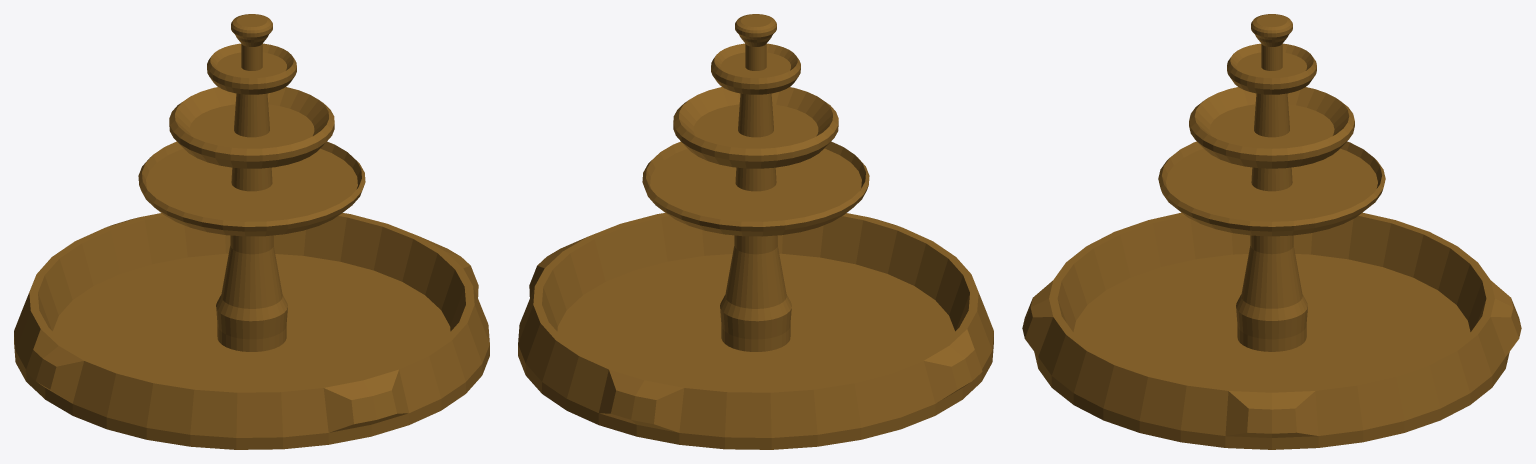
File: Fountain.fbx
3 renders of one model, left to right at view 1: azimuth 30°, elevation 25°; view 2: azimuth 150°, elevation 25°; view 3: azimuth 270°, elevation 25°, orthographic.
Parts seen in each view (by area): view 1: Circle; view 2: Circle; view 3: Circle.
Boxes of the visible parts, <box> form: Circle: <box>14,14,489,449</box>; Circle: <box>518,14,993,449</box>; Circle: <box>1022,14,1521,449</box>.
Bounding box in the file's own units: 2.24 × 1.63 × 2.24.
